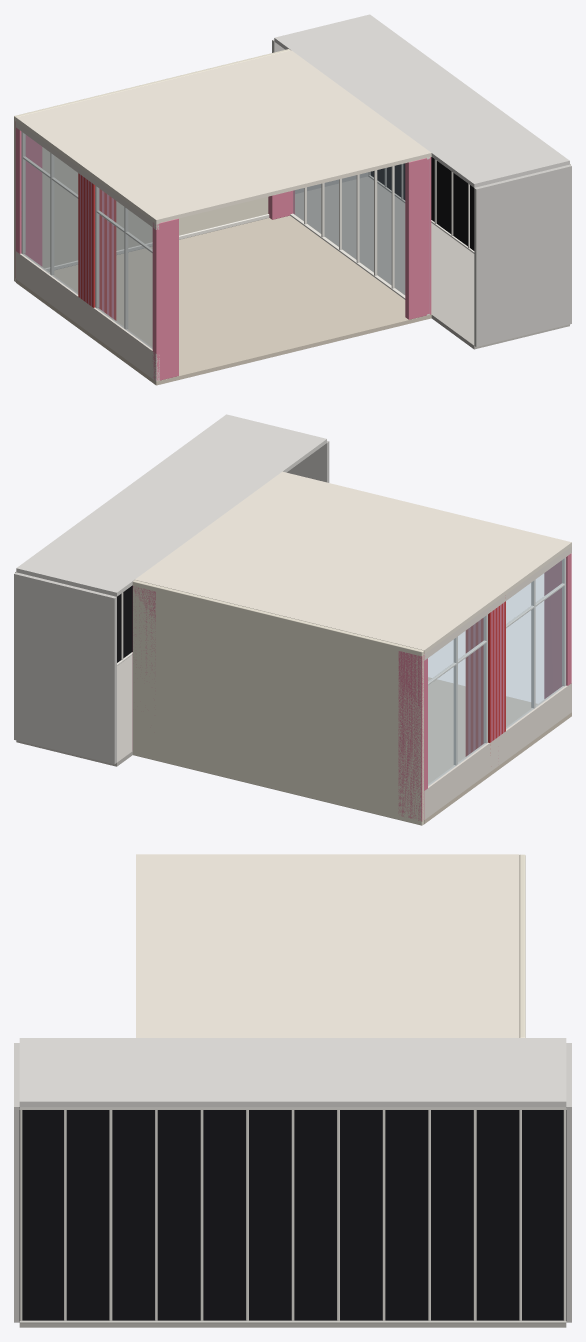
The model's file is room_shell.glb.
3 renders of one model, top to bottom at view 1: azimuth 30°, elevation 25°; view 2: azimuth 150°, elevation 25°; view 3: azimuth 270°, elevation 25°, orthographic. The views are drawn at different scales.
Visible parts, largest first — view 1: Ceiling.001, Floor.001, CorrCeil.001, CorrEndFront.001, CorrFloor.001, RGlass.001, Glass_F.001, WallBack.001, Glass_B.001, LWall_Low.001, RPier.001, LPier.001 (+12 smaller); view 2: WallBack.001, Ceiling.001, CorrCeil.001, CorrEndBack.001, Glass_B.001, Glass_F.001, LWall_Low.001, LPierBack.001, Floor.001, LPier.001, CorrFloor.001, LWall_Head.001 (+7 smaller); view 3: CorrGlass.001, Ceiling.001, CorrCeil.001, CorrFloor.001, CorrGlassBottom.001, CorrEndBack.001, CorrEndFront.001, CorrGlassTop.001, WallBack.001, CorrSash2.001, CorrSash4.001, CorrSash6.001 (+10 smaller).
Boxes of the visible parts, x1=… form: Ceiling.001: x1=16, y1=50, x2=431, y2=223; Floor.001: x1=16, y1=215, x2=431, y2=385; CorrCeil.001: x1=274, y1=14, x2=569, y2=187; CorrEndFront.001: x1=474, y1=164, x2=571, y2=346; CorrFloor.001: x1=295, y1=176, x2=569, y2=349; RGlass.001: x1=293, y1=163, x2=404, y2=294; Glass_F.001: x1=95, y1=186, x2=152, y2=348; WallBack.001: x1=14, y1=49, x2=290, y2=281; Glass_B.001: x1=21, y1=132, x2=77, y2=294; LWall_Low.001: x1=16, y1=251, x2=159, y2=381; RPier.001: x1=405, y1=157, x2=431, y2=319; LPier.001: x1=152, y1=218, x2=178, y2=380; WallBack.001: x1=132, y1=580, x2=423, y2=825; Ceiling.001: x1=135, y1=471, x2=571, y2=654; CorrCeil.001: x1=16, y1=414, x2=326, y2=596; CorrEndBack.001: x1=14, y1=572, x2=116, y2=764; Glass_B.001: x1=428, y1=615, x2=487, y2=785; Glass_F.001: x1=506, y1=558, x2=565, y2=728; LWall_Low.001: x1=424, y1=683, x2=571, y2=819; LPierBack.001: x1=398, y1=651, x2=427, y2=821; Floor.001: x1=424, y1=677, x2=571, y2=824; LPier.001: x1=544, y1=553, x2=571, y2=698; CorrFloor.001: x1=16, y1=655, x2=132, y2=766; LWall_Head.001: x1=424, y1=546, x2=571, y2=660; CorrGlass.001: x1=19, y1=1107, x2=566, y2=1320; Ceiling.001: x1=136, y1=854, x2=519, y2=1037; CorrCeil.001: x1=19, y1=1038, x2=566, y2=1106; CorrFloor.001: x1=19, y1=1323, x2=566, y2=1327; CorrGlassBottom.001: x1=19, y1=1320, x2=566, y2=1323; CorrEndBack.001: x1=566, y1=1043, x2=571, y2=1322; CorrEndFront.001: x1=14, y1=1043, x2=19, y2=1322; CorrGlassTop.001: x1=19, y1=1107, x2=566, y2=1109; WallBack.001: x1=519, y1=854, x2=525, y2=1037; CorrSash2.001: x1=109, y1=1110, x2=112, y2=1320; CorrSash4.001: x1=200, y1=1110, x2=203, y2=1320; CorrSash6.001: x1=291, y1=1110, x2=294, y2=1320.
Bounding box in the file's own units: 25.29 × 10.74 × 24.02.
